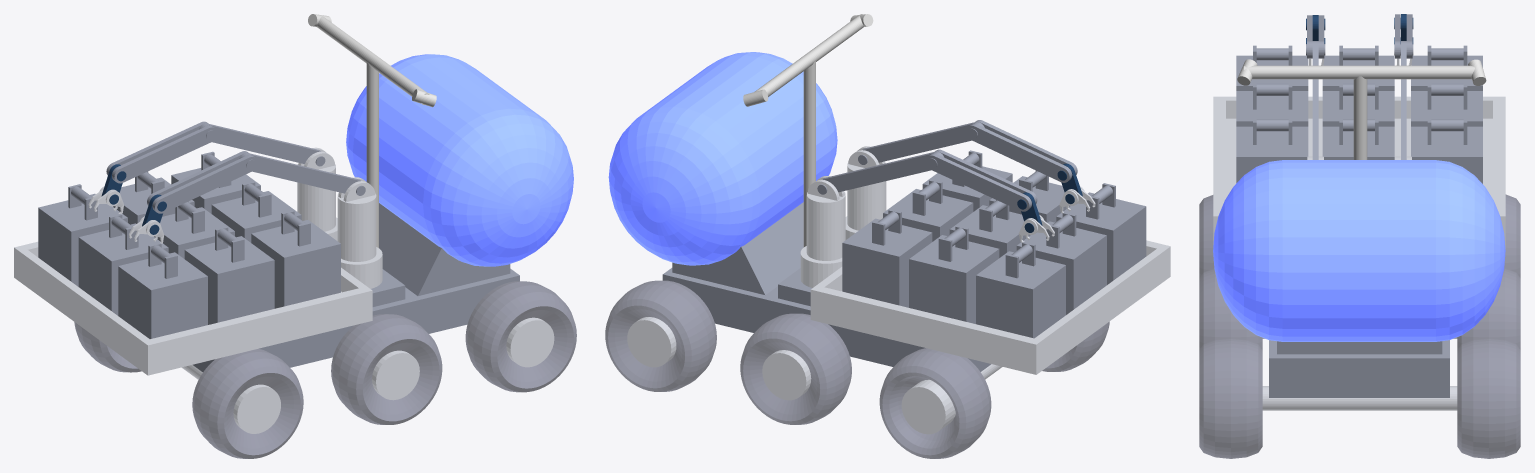
The model's file is LoadedBuggy_04.glb.
3 renders of one model, left to right at view 1: azimuth 30°, elevation 25°; view 2: azimuth 150°, elevation 25°; view 3: azimuth 270°, elevation 25°, orthographic. The views are drawn at different scales.
Parts seen in each view (by area): view 1: CabinGlass, Torus.001, Cube.003, LBat1, LBat3, LBat2, Cube, Cube.001, LBat7, LBat4, Cylinder.001, LBat6 (+11 smaller); view 2: CabinGlass, Torus.001, Cube.003, LBat7, LBat9, LBat8, Cube, Cube.001, LBat4, LBat1, Cylinder, LBat6 (+11 smaller); view 3: CabinGlass, Torus.001, Cube, Cube.003, Cylinder.012, LBat3, LBat9, LBat2, LBat8, LBat6, LBat5, Cube.001 (+8 smaller).
Part boxes in pixels (x1,y1,x2,y2): CabinGlass: (346,54,573,266); Torus.001: (74,281,576,458); Cube.003: (14,241,372,375); LBat1: (118,242,207,338); LBat3: (251,210,340,308); LBat2: (184,226,274,324); Cube: (193,268,519,371); Cube.001: (379,203,510,295); LBat7: (38,184,127,286); LBat4: (78,214,168,315); Cylinder.001: (337,177,382,288); LBat6: (211,181,301,242); CabinGlass: (608,52,837,265); Torus.001: (605,280,1109,458); Cube.003: (810,240,1170,374); LBat7: (976,242,1065,338); LBat9: (842,209,932,307); LBat8: (909,225,999,323); Cube: (662,268,991,371); Cube.001: (672,202,803,295); LBat4: (1016,212,1106,314); LBat1: (1056,183,1146,284); Cylinder: (800,176,845,287); LBat6: (883,179,973,241); CabinGlass: (1213,160,1505,341); Torus.001: (1199,194,1520,458); Cube: (1269,340,1449,397); Cube.003: (1213,96,1505,248); Cylinder.012: (1244,65,1474,79); LBat3: (1236,116,1308,182); LBat9: (1411,116,1482,183); LBat2: (1236,81,1308,126); LBat8: (1411,81,1482,126); LBat6: (1322,116,1394,159); LBat5: (1322,81,1394,126); Cube.001: (1277,341,1442,354).
Size of the model in its own units: 0.3008 by 0.2001 by 0.1698.
